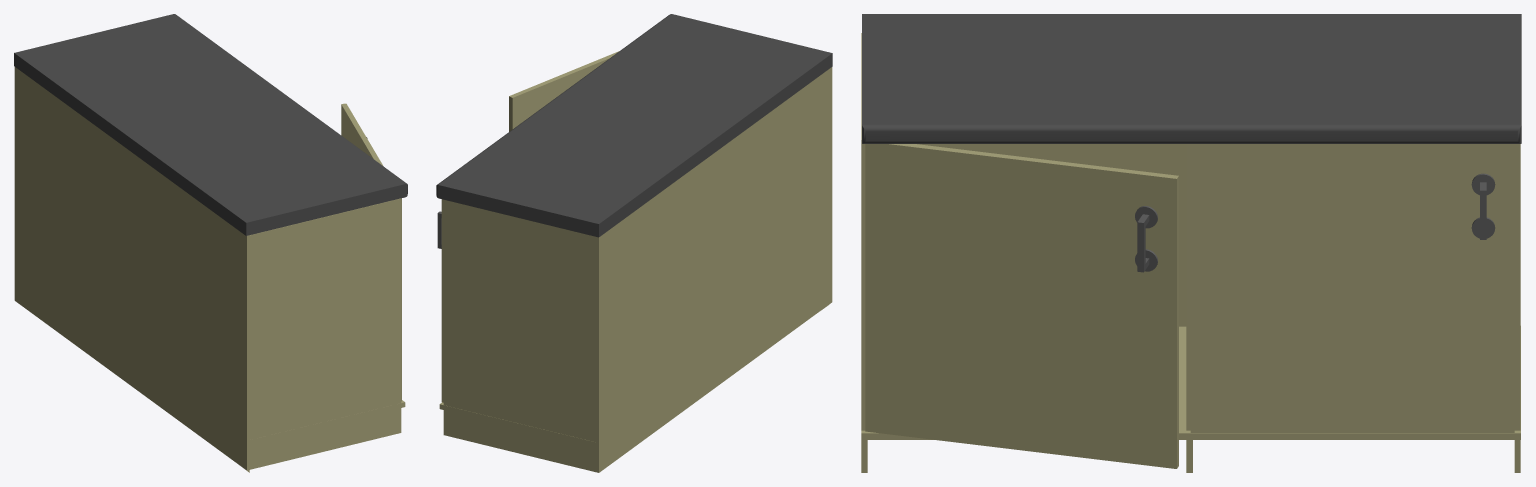
File: Worktop_01.fbx
3 views of the same model, side by side, from view 1: azimuth 30°, elevation 25°; view 2: azimuth 150°, elevation 25°; view 3: azimuth 270°, elevation 25° (orthographic). The views are drawn at different scales.
Parts seen in each view (by area): view 1: polySurface12; view 2: polySurface12; view 3: polySurface12.
Boxes of the visible parts, x1,y1,x2,y2 form: polySurface12: [14, 14, 407, 472]; polySurface12: [436, 14, 832, 472]; polySurface12: [861, 14, 1521, 472].
Bounding box in the file's own units: 1551 × 1700 × 2845.
